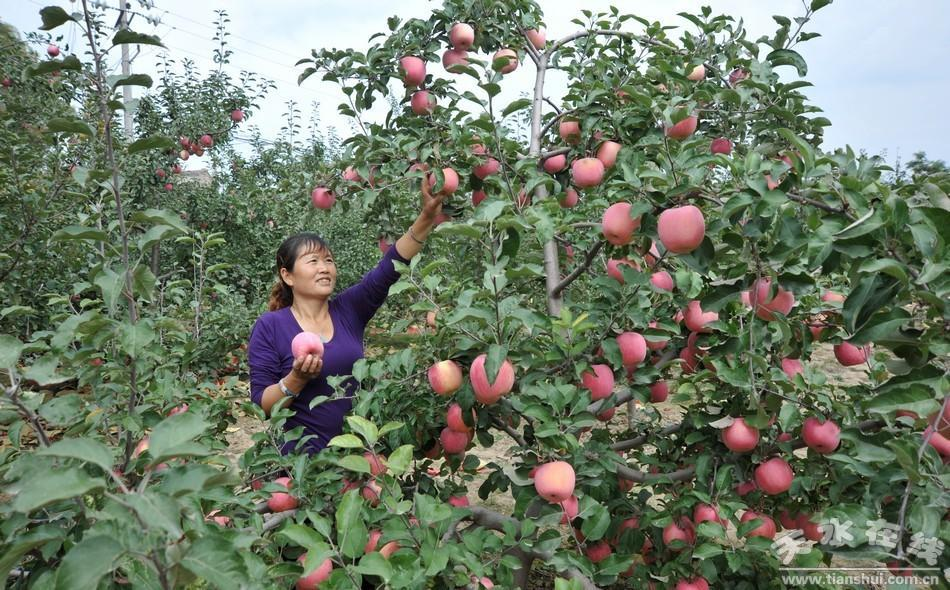apple: (656, 204, 705, 253), (470, 354, 513, 401), (749, 279, 795, 321), (600, 201, 640, 246), (534, 461, 574, 501), (754, 456, 793, 494), (801, 416, 840, 453), (426, 359, 462, 395), (721, 417, 758, 452), (579, 363, 613, 400), (295, 553, 331, 587), (265, 478, 297, 511), (616, 331, 646, 366), (572, 157, 604, 189), (292, 331, 322, 360), (835, 340, 868, 366), (447, 22, 475, 51), (399, 56, 425, 87), (682, 301, 706, 331), (442, 47, 470, 68), (311, 186, 335, 209), (708, 136, 732, 155)
